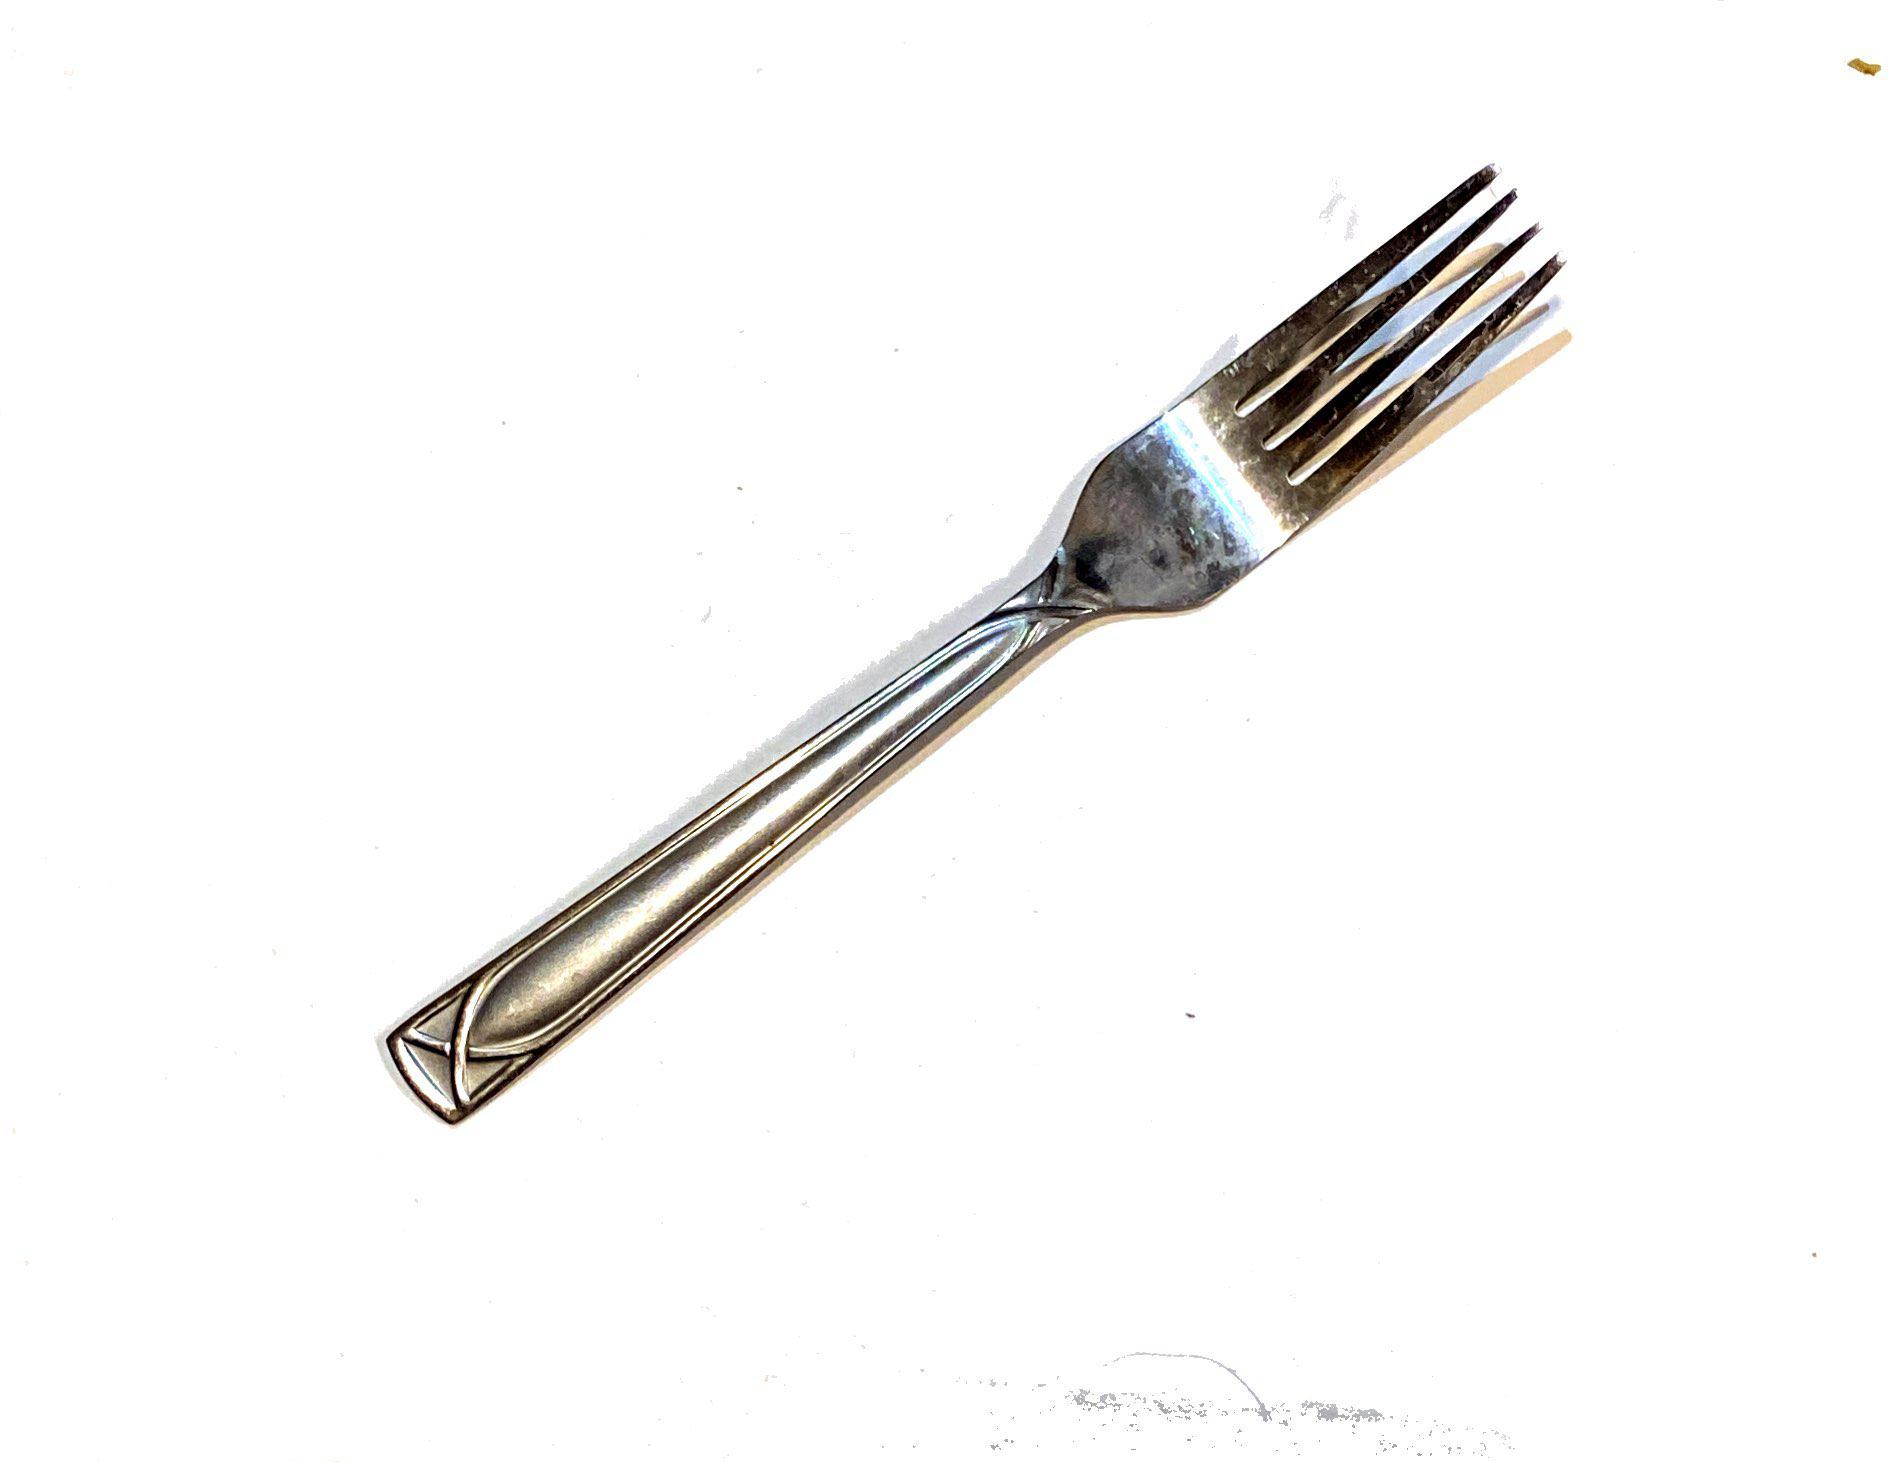Fork: (361, 86, 1698, 1295)
